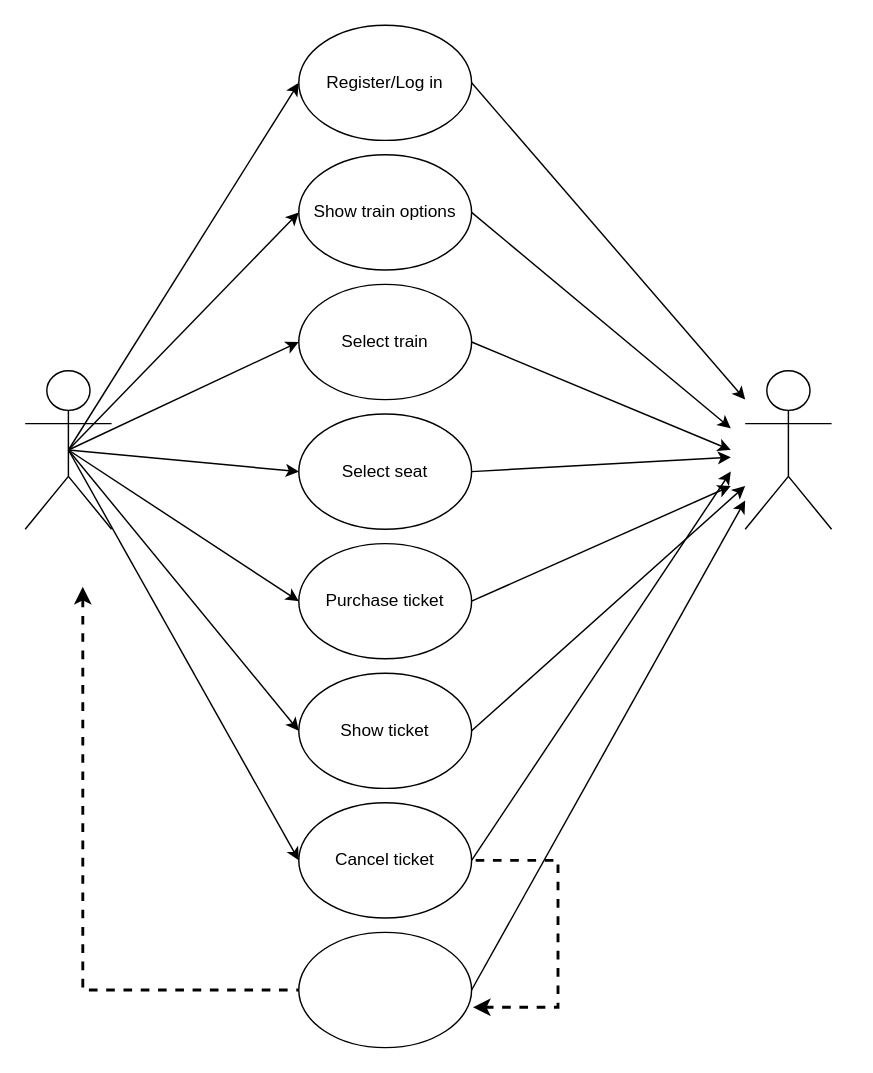
Image size: 873x1073. Some labels were removed from this diagram. The shapes that lost their labels are listed below. From the top down, each one's centre as x and y in pixels, then its label:
(68,449): Passenger
(788,449): Railway system
(384,989): Refund money
